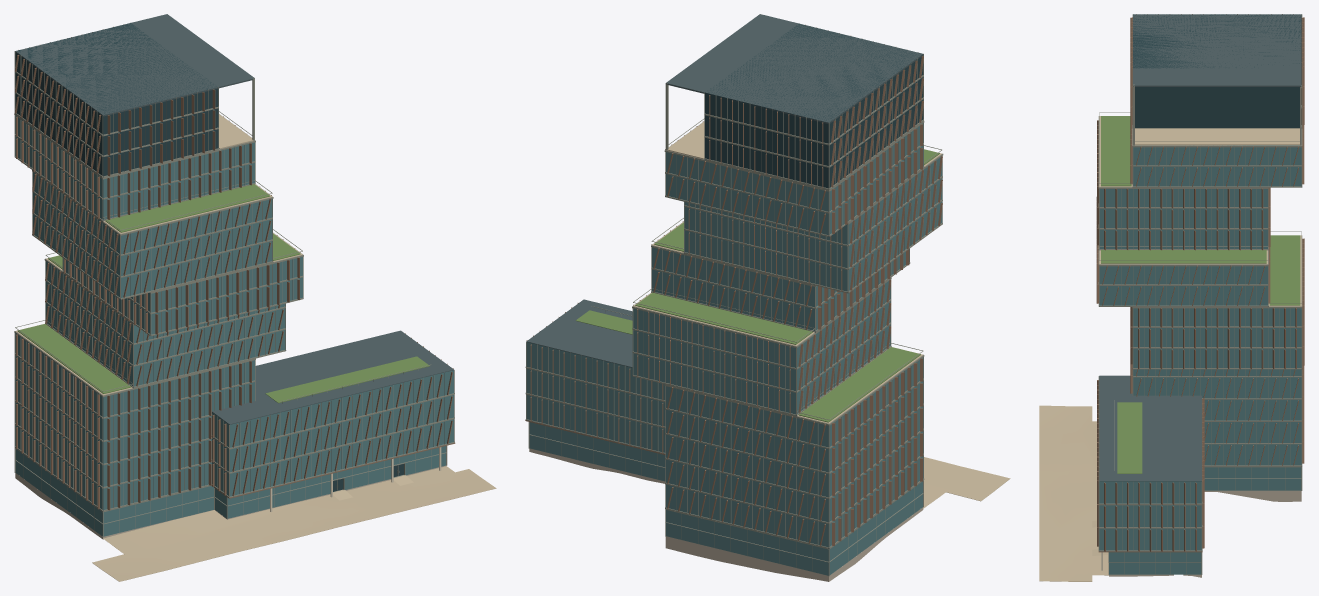
Rendered from cds-full.glb.
3 views of the same model, side by side, from view 1: azimuth 30°, elevation 25°; view 2: azimuth 150°, elevation 25°; view 3: azimuth 270°, elevation 25° (orthographic). The views are drawn at different scales.
Visible parts, largest first — view 1: BU architecture · glass, BU architecture · bronze, BU architecture · frame, BU architecture · roof, BU architecture · glassShade, BU ground · paving, BU architecture · grass, BU architecture · paving, BU architecture · stone; view 2: BU architecture · glass, BU architecture · bronze, BU architecture · frame, BU architecture · roof, BU architecture · glassShade, BU architecture · grass, BU architecture · stone, BU ground · paving, BU architecture · paving; view 3: BU architecture · glass, BU architecture · roof, BU architecture · frame, BU architecture · bronze, BU architecture · glassShade, BU ground · paving, BU architecture · grass, BU architecture · paving, BU architecture · stone.
Boxes of the visible parts, <box> form: BU architecture · glass: <box>15,116,453,536</box>; BU architecture · bronze: <box>14,26,455,510</box>; BU architecture · frame: <box>14,22,454,537</box>; BU architecture · roof: <box>15,14,453,511</box>; BU architecture · glassShade: <box>15,23,403,491</box>; BU ground · paving: <box>92,466,496,581</box>; BU architecture · grass: <box>17,184,429,403</box>; BU architecture · paving: <box>15,114,302,395</box>; BU architecture · stone: <box>15,465,446,539</box>; BU architecture · glass: <box>526,123,942,575</box>; BU architecture · bronze: <box>525,24,942,545</box>; BU architecture · frame: <box>525,14,943,576</box>; BU architecture · roof: <box>526,14,924,548</box>; BU architecture · glassShade: <box>705,24,923,188</box>; BU architecture · grass: <box>575,149,939,422</box>; BU architecture · stone: <box>529,448,923,581</box>; BU ground · paving: <box>923,457,1010,508</box>; BU architecture · paving: <box>633,122,941,423</box>; BU architecture · glass: <box>1099,145,1301,574</box>; BU architecture · roof: <box>1099,14,1302,481</box>; BU architecture · frame: <box>1098,14,1302,574</box>; BU architecture · bronze: <box>1096,14,1304,552</box>; BU architecture · glassShade: <box>1133,14,1301,128</box>; BU ground · paving: <box>1039,405,1108,581</box>; BU architecture · grass: <box>1101,116,1300,473</box>; BU architecture · paving: <box>1099,116,1301,306</box>; BU architecture · stone: <box>1109,490,1301,577</box>.
Size of the model in its own units: 87 by 95.51 by 55.1.
